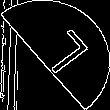L_SW: (23, 27, 87, 83)
